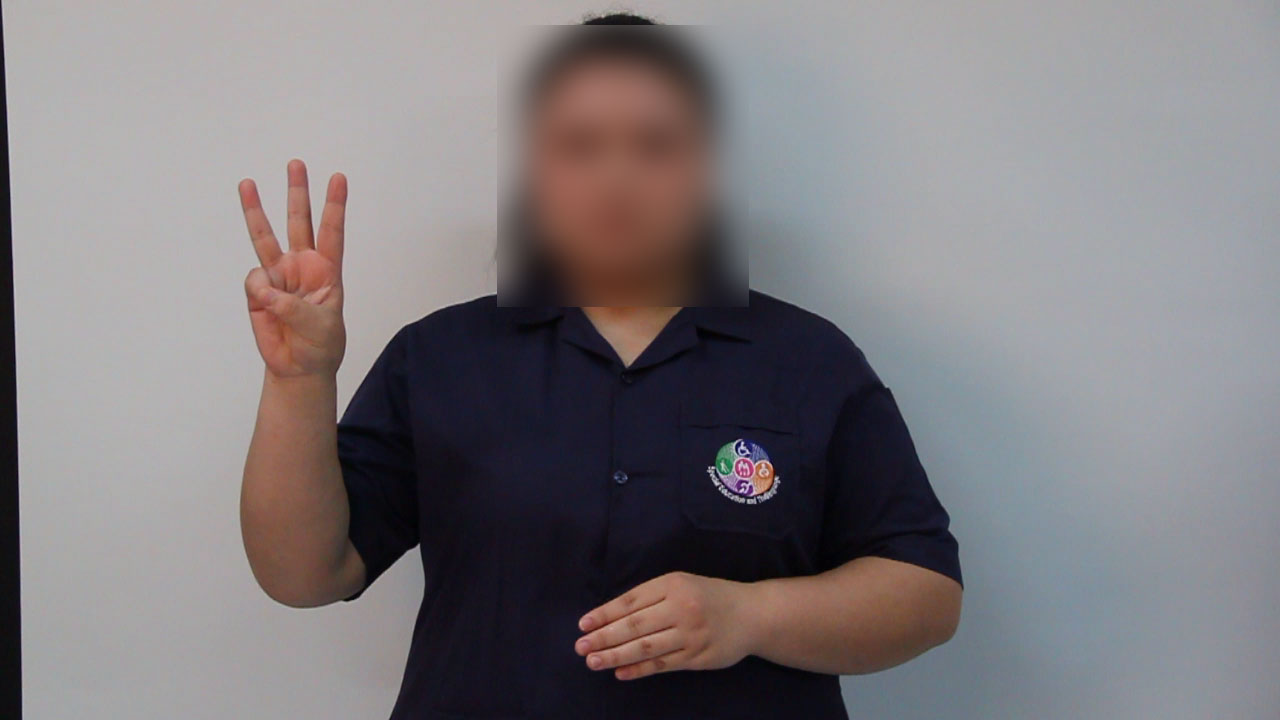wor: (228, 147, 358, 391)
